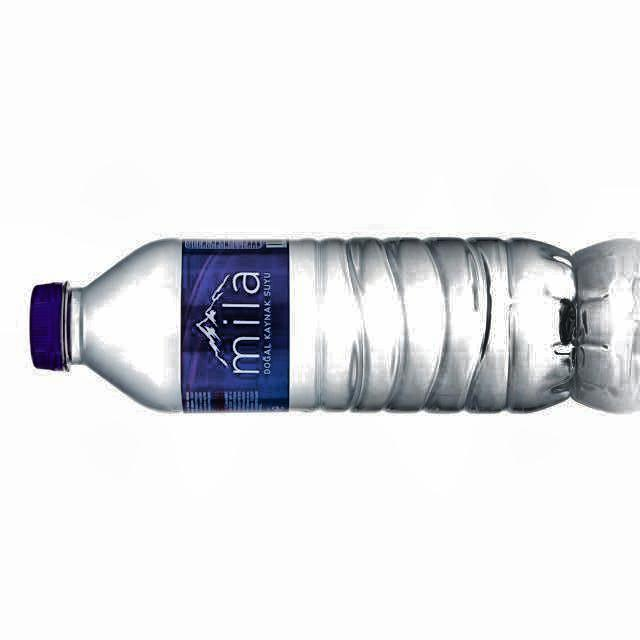plastic: (30, 239, 575, 411)
